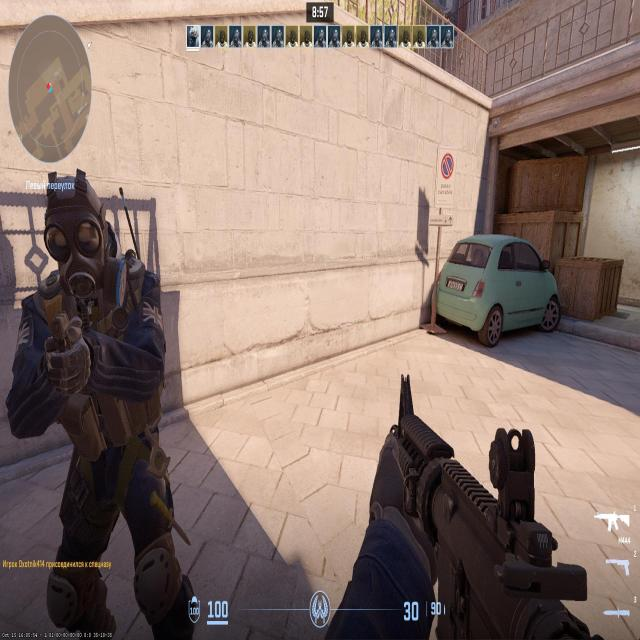CT: (45, 182, 168, 615)
CT_heat: (67, 202, 100, 278)
